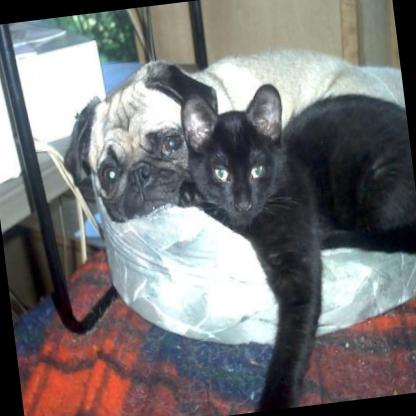pug: (52, 28, 412, 228)
